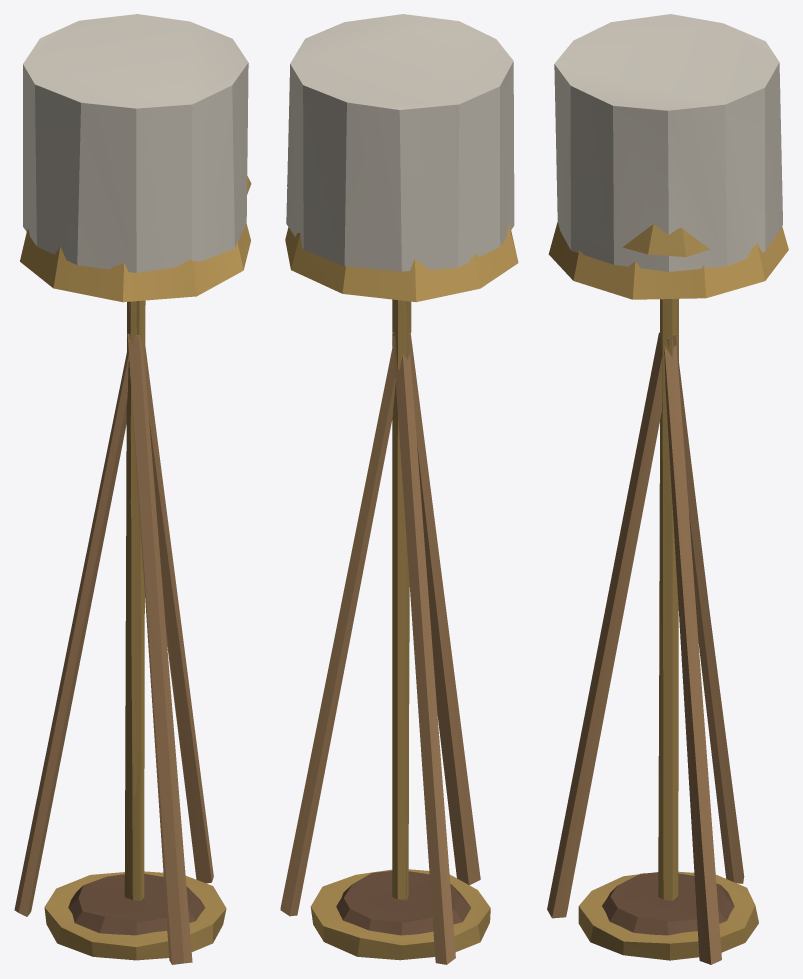
The model's file is lamp.floor.glb.
The picture shows the model from 3 angles, left to right: view 1: azimuth 30°, elevation 25°; view 2: azimuth 150°, elevation 25°; view 3: azimuth 270°, elevation 25°; orthographic projection.
Visible parts, largest first — view 1: lamp.floor.v0.mesh, lamp.floor.v1.mesh, lamp.floor.v2.mesh; view 2: lamp.floor.v0.mesh, lamp.floor.v1.mesh, lamp.floor.v2.mesh; view 3: lamp.floor.v0.mesh, lamp.floor.v1.mesh, lamp.floor.v2.mesh.
Part boxes in pixels (x1,y1,x2,y2): lamp.floor.v0.mesh: (23, 14, 248, 935); lamp.floor.v1.mesh: (14, 223, 250, 964); lamp.floor.v2.mesh: (44, 176, 251, 960); lamp.floor.v0.mesh: (286, 14, 514, 935); lamp.floor.v1.mesh: (280, 223, 518, 964); lamp.floor.v2.mesh: (287, 185, 490, 960); lamp.floor.v0.mesh: (554, 14, 782, 935); lamp.floor.v1.mesh: (547, 222, 788, 964); lamp.floor.v2.mesh: (578, 224, 758, 960).
Size of the model in its own units: 0.3999 by 1.6 by 0.4084.
